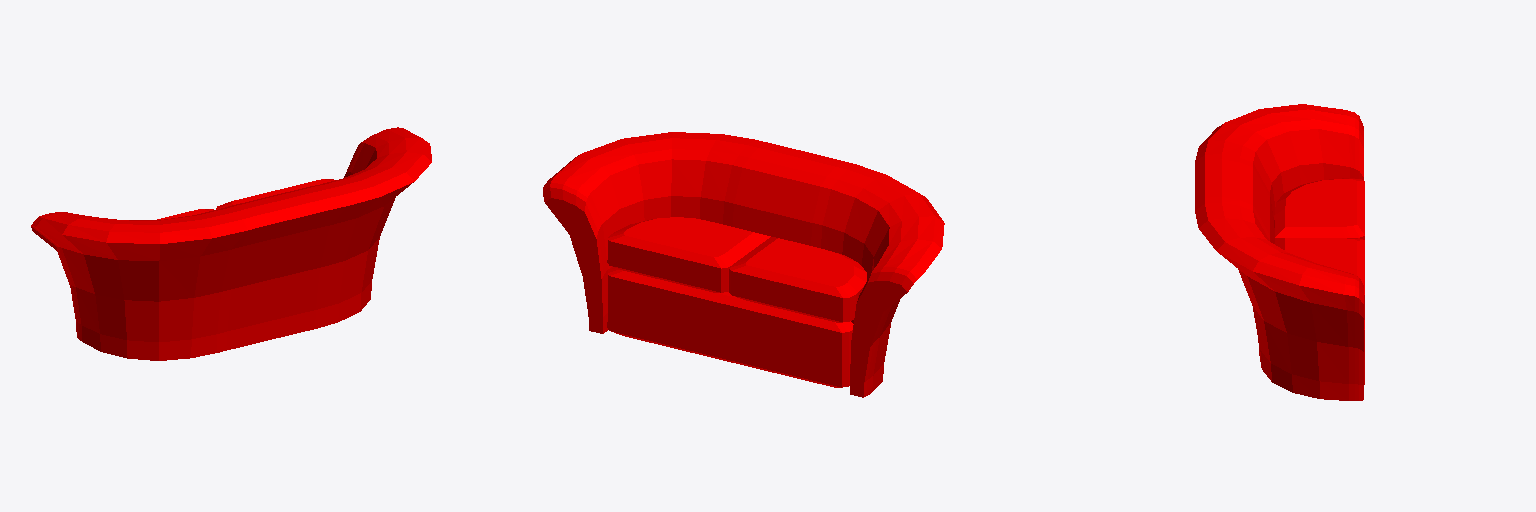
Rendered from couch.obj.
3 views of the same model, side by side, from view 1: azimuth 30°, elevation 25°; view 2: azimuth 150°, elevation 25°; view 3: azimuth 270°, elevation 25° (orthographic).
Bounding box in the file's own units: 2.68 × 1.06 × 1.05.